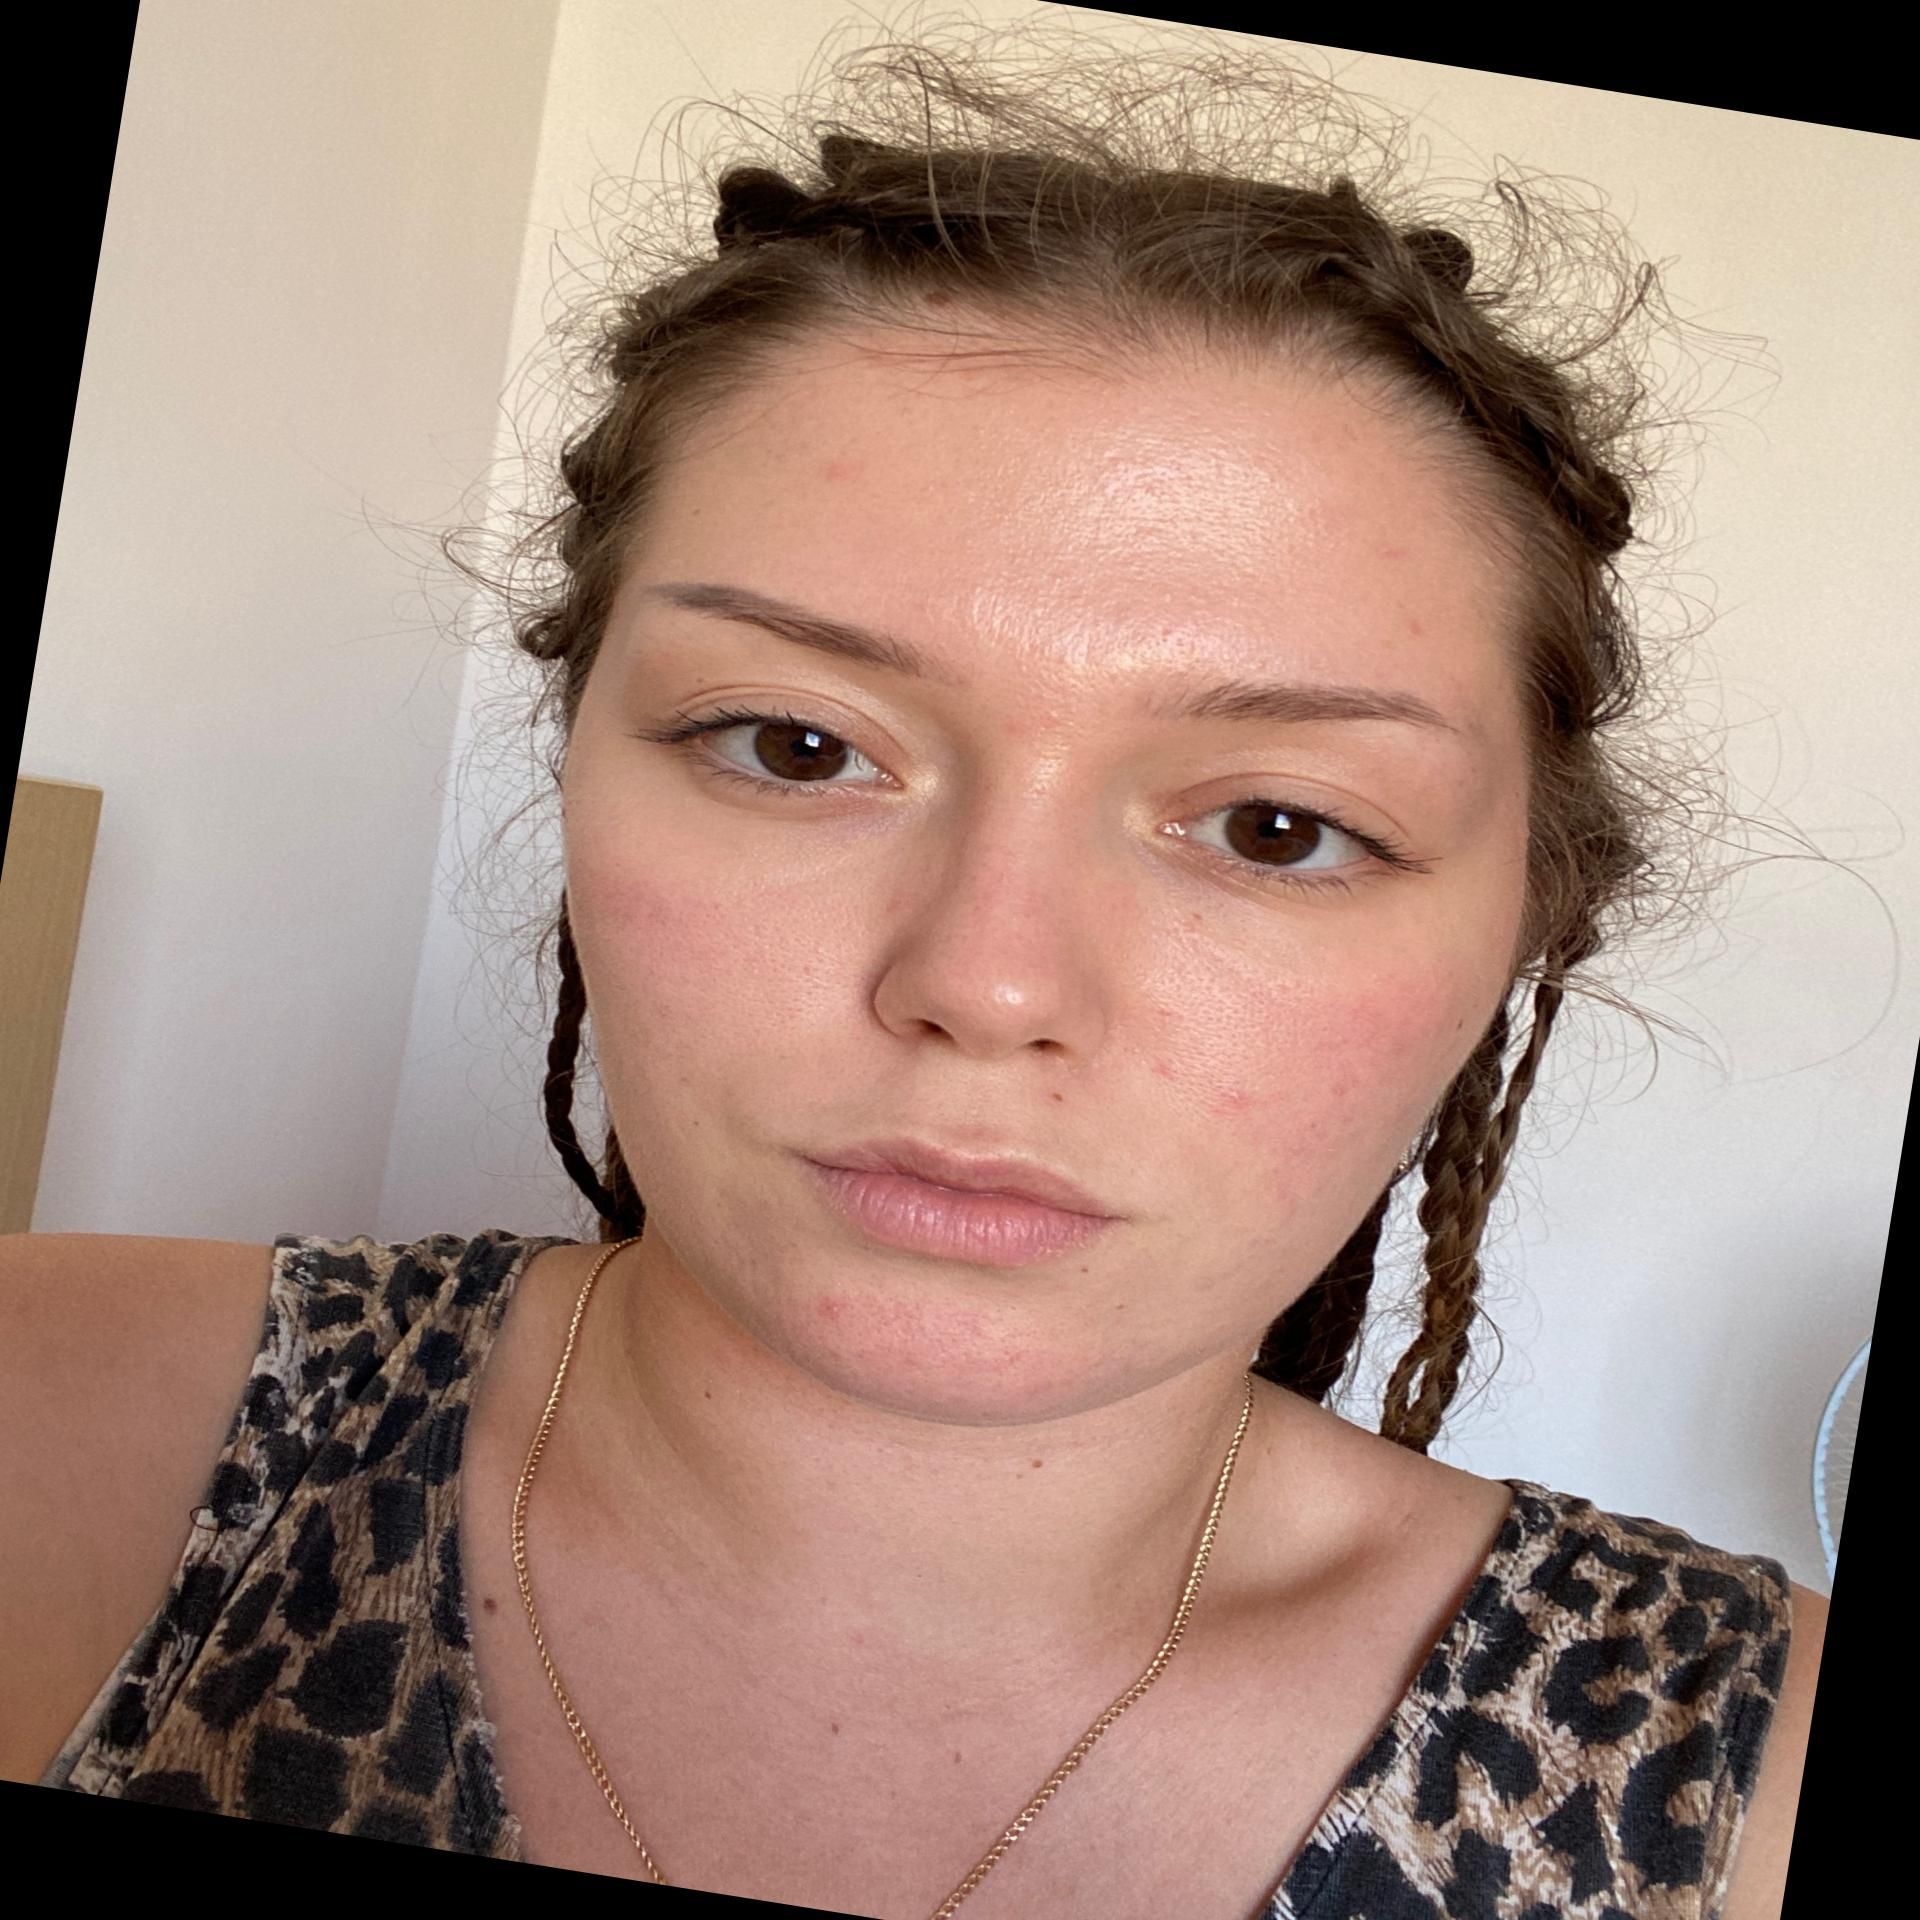Acne: (1257, 1157, 1315, 1218), (811, 452, 870, 492), (805, 1289, 853, 1331), (1218, 1078, 1262, 1120), (1370, 542, 1424, 571), (1139, 1051, 1183, 1085), (883, 888, 911, 925), (1326, 1078, 1350, 1104), (1405, 615, 1428, 644), (1150, 1002, 1180, 1020)
Englarged Pores: (981, 403, 1305, 594), (585, 847, 865, 1046), (934, 566, 1282, 698), (1116, 923, 1324, 1143), (782, 1282, 1062, 1401), (1000, 658, 1099, 825)
